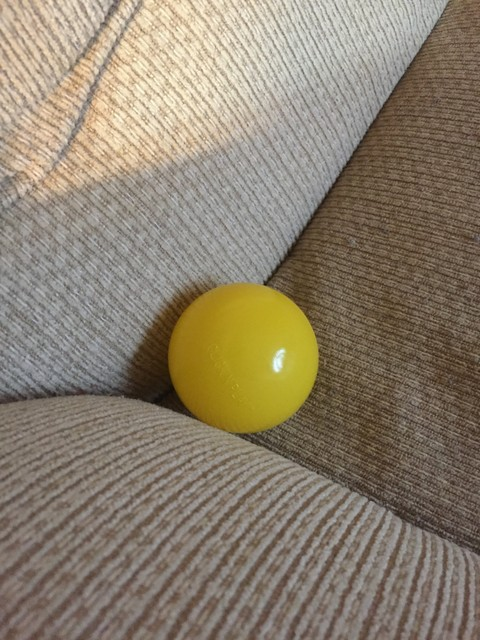ball: (167, 280, 322, 431)
